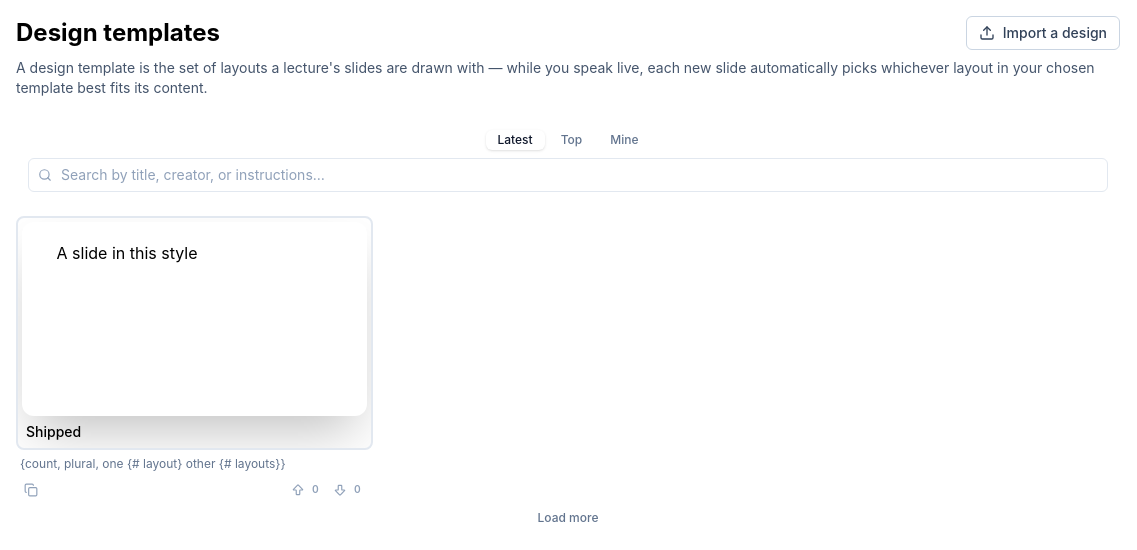
Test: DesignTemplatesPage lazy loading (TMPL-28) › appends the next page on load more
Expected: the text "Shipped" is shown, [26,422,81,442]
Click the button "Load more" at (568, 518), box [16,502,1120,534]
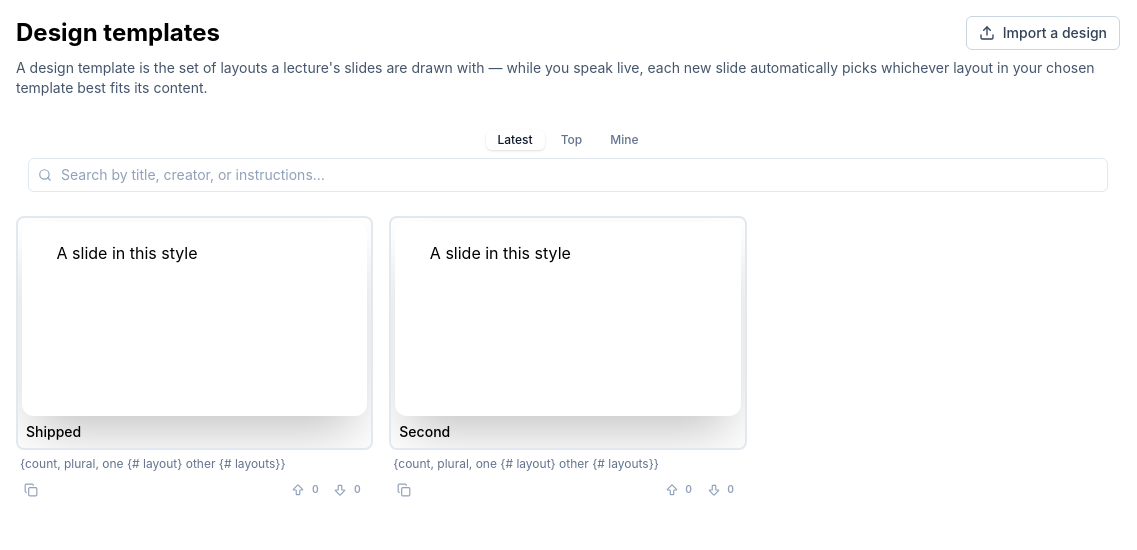
Expected: the text "Shipped" is shown, [26,422,81,442]
Result: the text "Second" is shown at [399,422,450,442]
